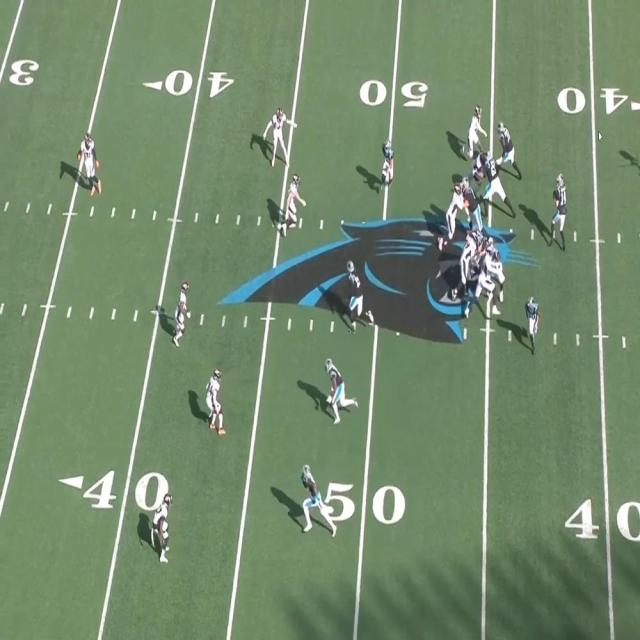db: (206, 369, 223, 435), (79, 134, 98, 192), (154, 498, 171, 560), (176, 283, 192, 346), (269, 110, 287, 164)
lb: (283, 175, 301, 231), (468, 106, 485, 158)
qb: (552, 174, 567, 246)
skill: (300, 463, 321, 528), (348, 260, 369, 319), (326, 358, 345, 422), (526, 297, 538, 352), (381, 139, 393, 192)
